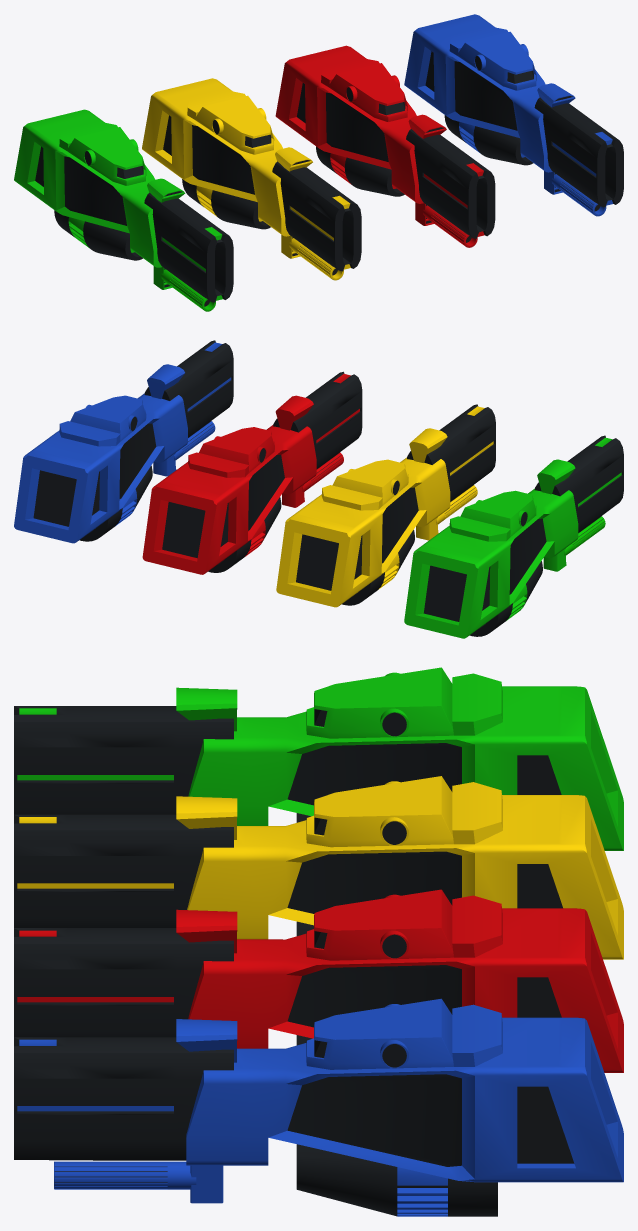
Rendered from LaserGunLevel3.fbx.
The picture shows the model from 3 angles, top to bottom: view 1: azimuth 30°, elevation 25°; view 2: azimuth 150°, elevation 25°; view 3: azimuth 270°, elevation 25°; orthographic projection. The views are drawn at different scales.
Parts seen in each view (by area): view 1: LaserGunLevel3Yellow, LaserGunLevel3Red, LaserGunLevel3Green, LaserGunLevel3Blue; view 2: LaserGunLevel3Red, LaserGunLevel3Blue, LaserGunLevel3Green, LaserGunLevel3Yellow; view 3: LaserGunLevel3Blue, LaserGunLevel3Yellow, LaserGunLevel3Red, LaserGunLevel3Green.
Boxes of the visible parts, bbox=[...] form: LaserGunLevel3Yellow: bbox=[142, 78, 361, 280]; LaserGunLevel3Red: bbox=[275, 45, 495, 247]; LaserGunLevel3Green: bbox=[14, 109, 233, 311]; LaserGunLevel3Blue: bbox=[404, 14, 623, 216]; LaserGunLevel3Red: bbox=[142, 371, 362, 574]; LaserGunLevel3Blue: bbox=[14, 340, 233, 543]; LaserGunLevel3Green: bbox=[404, 435, 623, 638]; LaserGunLevel3Yellow: bbox=[276, 404, 495, 607]; LaserGunLevel3Blue: bbox=[14, 998, 623, 1216]; LaserGunLevel3Yellow: bbox=[14, 776, 623, 959]; LaserGunLevel3Red: bbox=[14, 889, 623, 1072]; LaserGunLevel3Green: bbox=[14, 667, 623, 850].
Bounding box in the file's own units: 345 × 80.67 × 230.
